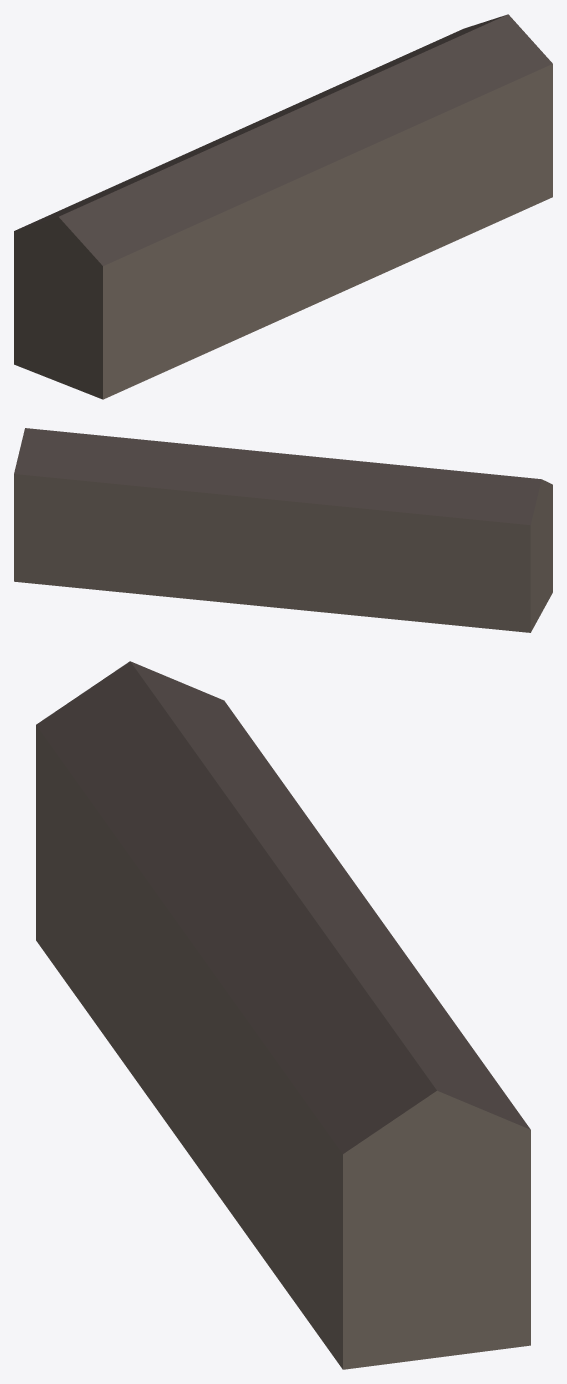
3 views of the same model, one above another, from view 1: azimuth 30°, elevation 25°; view 2: azimuth 150°, elevation 25°; view 3: azimuth 270°, elevation 25° (orthographic). The views are drawn at different scales.
Visible parts, largest first — view 1: HP-w1076065848; view 2: HP-w1076065848; view 3: HP-w1076065848.
Part boxes in pixels (left/top/right/bottom): HP-w1076065848: left=14, top=14, right=552, bottom=399; HP-w1076065848: left=14, top=428, right=552, bottom=632; HP-w1076065848: left=36, top=661, right=530, bottom=1369.
Bounding box in the file's own units: 40.64 × 11.15 × 18.74.
